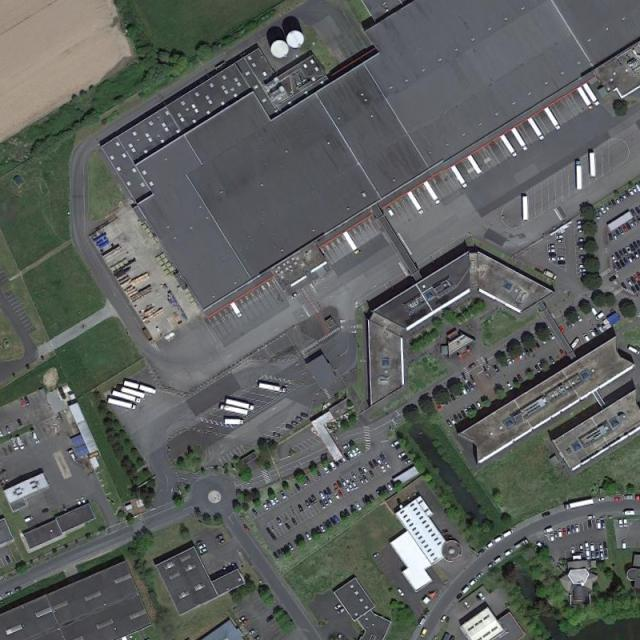vehicle: (582, 82, 601, 106), (528, 117, 546, 141), (423, 181, 441, 205), (124, 381, 157, 394), (544, 107, 562, 130), (511, 128, 529, 151), (500, 134, 518, 157), (407, 192, 425, 215), (343, 232, 361, 255), (577, 86, 594, 110), (113, 390, 142, 404), (226, 398, 256, 411), (451, 166, 468, 188), (108, 398, 138, 410), (565, 498, 594, 510), (467, 154, 482, 175), (121, 386, 146, 398), (258, 383, 287, 393), (221, 405, 249, 415), (514, 538, 530, 551), (542, 270, 558, 282), (231, 302, 243, 318), (30, 430, 42, 445), (576, 161, 582, 190), (67, 450, 78, 465), (570, 337, 582, 350), (522, 196, 528, 221), (10, 436, 20, 451), (225, 418, 245, 425), (16, 436, 26, 450), (627, 346, 640, 356), (418, 615, 428, 628), (58, 386, 67, 400), (590, 153, 595, 178), (595, 312, 606, 322), (494, 555, 505, 565), (503, 549, 515, 558), (596, 324, 606, 334), (486, 561, 497, 570), (419, 627, 428, 638), (502, 530, 514, 538), (575, 313, 584, 323), (266, 615, 276, 624), (24, 515, 34, 524), (475, 572, 485, 581), (478, 592, 487, 602), (494, 535, 504, 544), (536, 541, 546, 550), (493, 363, 501, 374), (390, 440, 401, 448), (446, 418, 454, 429), (582, 333, 591, 342), (469, 578, 478, 587), (334, 602, 343, 611), (590, 306, 598, 316), (542, 510, 552, 518), (548, 331, 556, 341), (549, 356, 557, 366), (215, 534, 225, 542), (266, 500, 274, 510), (14, 586, 24, 594), (463, 600, 471, 610), (440, 614, 448, 624), (398, 588, 406, 598), (382, 485, 390, 495), (362, 475, 370, 485), (397, 452, 407, 460), (310, 494, 318, 504), (319, 500, 327, 510), (622, 510, 635, 516), (387, 482, 394, 493), (351, 471, 358, 482), (534, 341, 542, 350), (534, 365, 542, 374), (467, 382, 475, 391), (251, 508, 259, 517), (270, 533, 278, 542), (283, 545, 291, 554), (287, 542, 295, 551), (242, 524, 250, 533), (330, 462, 338, 471), (302, 479, 310, 488), (294, 483, 302, 492), (350, 448, 358, 457), (462, 586, 471, 594), (350, 505, 358, 514), (485, 542, 494, 550), (380, 465, 388, 474), (358, 468, 366, 477), (305, 532, 313, 541), (334, 493, 342, 502), (630, 276, 638, 285), (626, 278, 634, 287), (622, 257, 630, 266), (614, 197, 622, 206), (291, 420, 301, 427), (280, 491, 287, 501), (24, 396, 31, 406), (336, 608, 346, 615), (355, 502, 362, 512), (544, 527, 554, 534), (385, 462, 392, 472), (341, 478, 348, 488), (291, 517, 298, 527), (305, 499, 312, 509), (619, 259, 626, 269), (608, 275, 618, 282), (622, 247, 629, 257), (272, 432, 283, 438), (468, 406, 474, 417), (276, 518, 284, 526), (262, 504, 270, 512), (270, 498, 278, 506), (301, 411, 309, 419), (506, 382, 514, 390), (362, 466, 370, 474), (315, 526, 323, 534), (630, 286, 638, 294), (614, 252, 622, 260), (618, 250, 626, 258), (594, 328, 601, 337), (590, 329, 597, 338), (524, 347, 531, 356), (559, 348, 566, 357), (280, 547, 287, 556), (343, 452, 350, 461), (20, 399, 27, 408), (344, 509, 351, 518), (454, 414, 461, 423), (450, 417, 457, 426), (334, 515, 341, 524), (330, 517, 337, 526), (348, 483, 355, 492), (352, 481, 359, 490), (358, 476, 365, 485), (368, 461, 375, 470), (380, 454, 387, 463), (337, 481, 344, 490), (308, 497, 315, 506), (323, 522, 330, 531), (298, 504, 305, 513), (334, 483, 341, 492), (319, 491, 326, 500), (323, 489, 330, 498), (630, 209, 637, 218), (600, 206, 607, 215), (604, 203, 611, 212), (628, 188, 635, 197), (629, 243, 636, 252), (629, 220, 636, 229), (632, 218, 639, 227), (626, 222, 633, 231), (601, 518, 606, 530), (285, 425, 295, 431), (18, 418, 24, 428), (616, 262, 622, 272), (613, 264, 619, 274), (619, 227, 625, 237), (566, 321, 573, 329), (559, 326, 566, 334), (510, 355, 517, 363), (506, 358, 513, 366), (538, 362, 545, 370), (435, 402, 442, 410), (450, 394, 457, 402), (6, 591, 14, 598), (266, 527, 273, 535), (249, 628, 257, 635), (238, 616, 246, 623), (195, 540, 203, 547), (198, 543, 206, 550), (199, 547, 207, 554), (340, 455, 347, 463), (334, 460, 341, 468), (323, 466, 330, 474), (316, 471, 323, 479), (273, 495, 280, 503), (355, 447, 362, 455), (369, 494, 376, 502), (476, 402, 483, 410), (517, 374, 524, 382), (461, 410, 468, 418), (345, 486, 352, 494), (405, 458, 412, 466), (327, 521, 334, 529), (327, 497, 334, 505), (621, 282, 628, 290), (630, 254, 637, 262), (627, 256, 634, 264), (633, 242, 640, 250), (626, 246, 633, 254), (622, 225, 629, 233), (615, 229, 622, 237), (579, 254, 590, 259), (577, 225, 588, 230), (597, 519, 602, 530), (570, 318, 576, 327), (584, 542, 590, 551), (462, 386, 468, 395), (458, 387, 464, 396), (587, 520, 593, 529), (295, 416, 304, 422), (6, 426, 12, 435), (376, 457, 382, 466), (345, 477, 351, 486), (324, 498, 330, 507), (326, 486, 332, 495), (634, 274, 640, 283), (612, 255, 618, 264), (578, 220, 588, 225), (590, 542, 595, 552), (624, 495, 634, 500), (622, 540, 627, 550), (242, 619, 249, 626), (327, 464, 334, 471), (457, 414, 464, 421), (611, 199, 618, 206), (618, 195, 625, 202), (578, 242, 590, 246), (518, 352, 524, 360), (278, 550, 284, 558), (218, 539, 226, 545), (306, 476, 312, 484), (338, 458, 344, 466), (81, 497, 87, 505), (76, 498, 82, 506), (348, 451, 354, 459), (370, 470, 376, 478), (373, 458, 379, 466), (320, 525, 326, 533), (338, 490, 344, 498), (634, 284, 640, 292), (634, 251, 640, 259), (608, 201, 614, 209), (625, 191, 631, 199), (580, 268, 589, 273), (557, 261, 566, 266), (556, 234, 565, 239), (623, 518, 628, 527), (455, 390, 460, 399), (575, 525, 580, 534), (571, 526, 576, 535), (566, 527, 571, 536), (613, 232, 618, 241), (609, 233, 614, 242), (579, 247, 590, 251), (285, 523, 291, 530), (274, 552, 280, 559), (374, 552, 381, 558), (395, 444, 402, 450), (294, 539, 300, 546), (622, 194, 628, 201), (579, 265, 589, 269), (558, 256, 566, 261), (548, 244, 556, 249), (549, 257, 557, 262), (579, 238, 589, 242), (604, 551, 609, 559), (591, 551, 596, 559), (586, 550, 590, 560), (579, 545, 584, 553), (588, 515, 596, 520), (558, 529, 562, 539), (635, 207, 640, 215), (635, 184, 640, 192), (633, 186, 638, 194), (603, 542, 607, 551), (619, 519, 623, 528), (563, 528, 567, 537), (550, 534, 554, 543), (465, 409, 469, 418), (636, 215, 640, 224), (557, 239, 565, 243), (549, 249, 557, 253), (601, 552, 605, 560), (599, 544, 603, 552), (571, 546, 575, 554), (614, 498, 622, 502), (598, 498, 606, 502), (636, 494, 640, 502), (554, 531, 558, 539), (578, 230, 588, 233), (582, 273, 589, 277), (550, 253, 557, 257), (636, 272, 640, 278), (637, 239, 640, 246)
